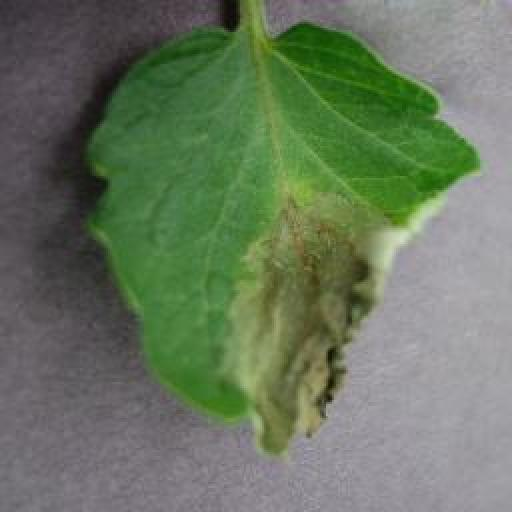Late Blight: (87, 24, 481, 461)
